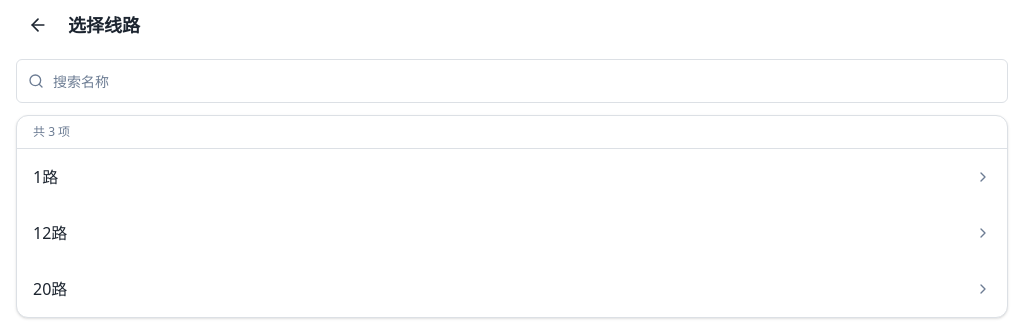
Test: 选择列表搜索 › 按关键字过滤线路，无匹配时显示空态
Type "2" into the field with placeholder "搜索名称". click: (512, 81)
box: [16, 59, 1008, 103]
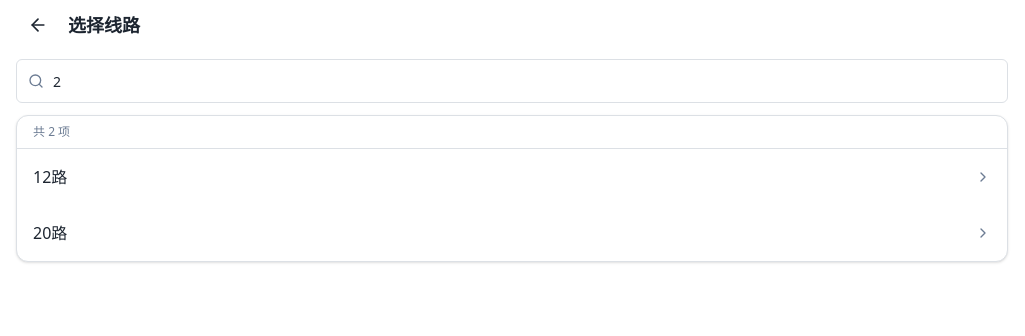
Check: the text "12路" is shown, box [33, 165, 67, 189]
Check: the button "1路" is gone
Replace the text in the field with placeholder "搜索名称" with "zz". click: (512, 81)
box: [16, 59, 1008, 103]
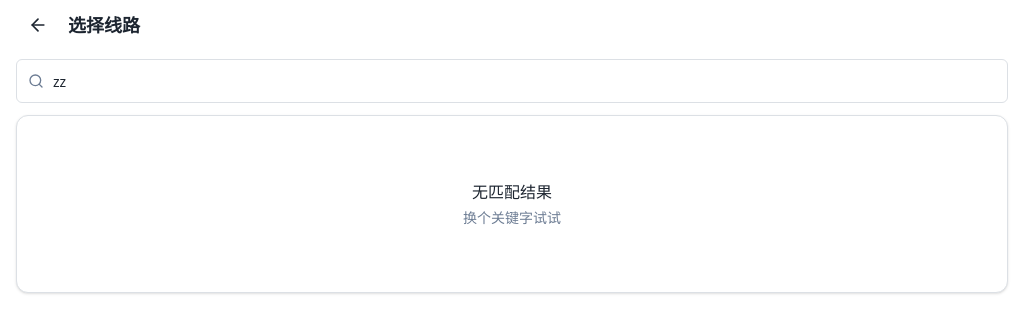
Check: the text "无匹配结果" is shown, box [472, 180, 552, 204]
